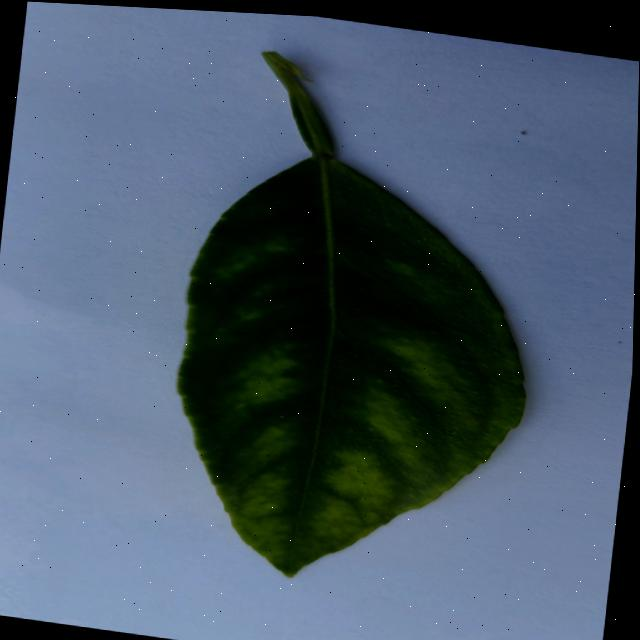greening: (180, 50, 524, 574)
